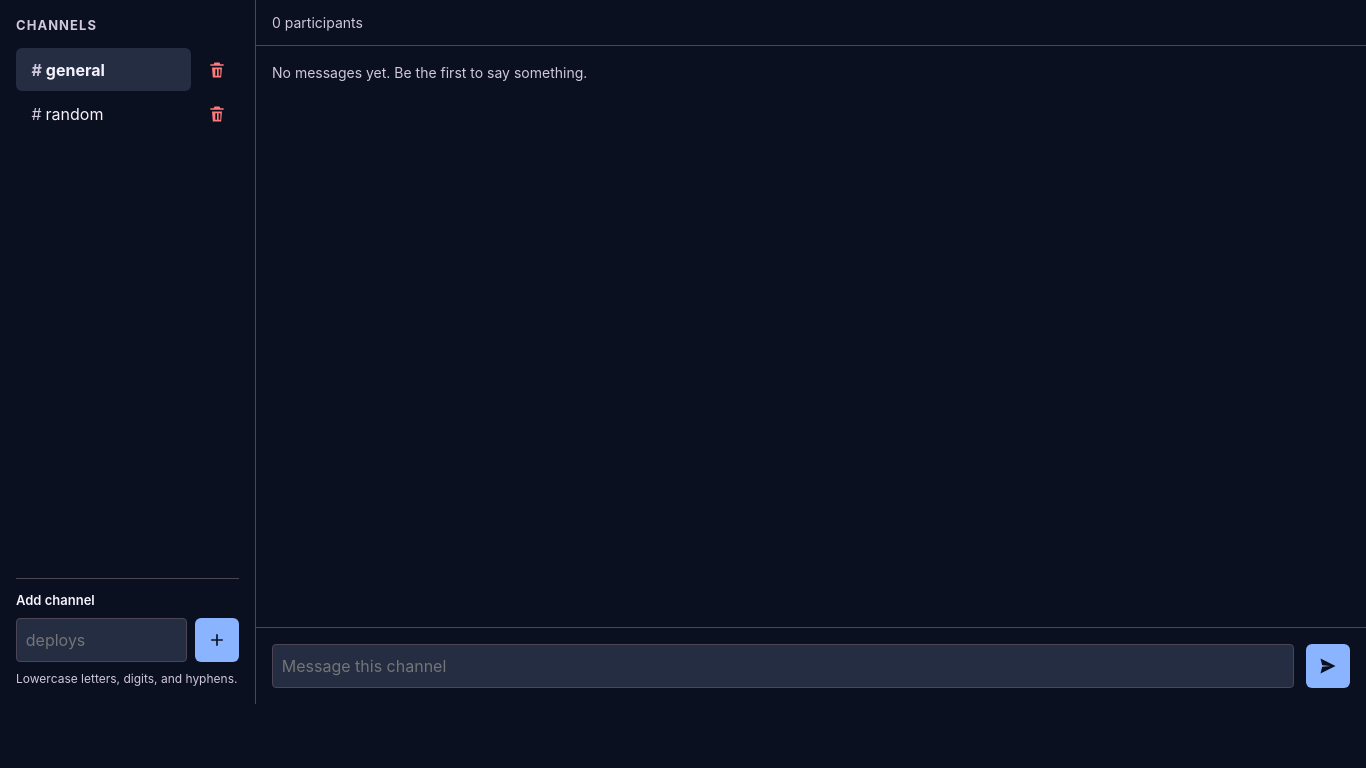
Test: ChatWorkspace › creating a channel › reports a rejected channel name without clearing the conversation
The width and height of the screenshot is (1366, 768).
expect the button "#general" is shown: met, box [16, 48, 191, 91]
Type "general" into the field named "New channel name" at (102,640), box [16, 618, 187, 662]
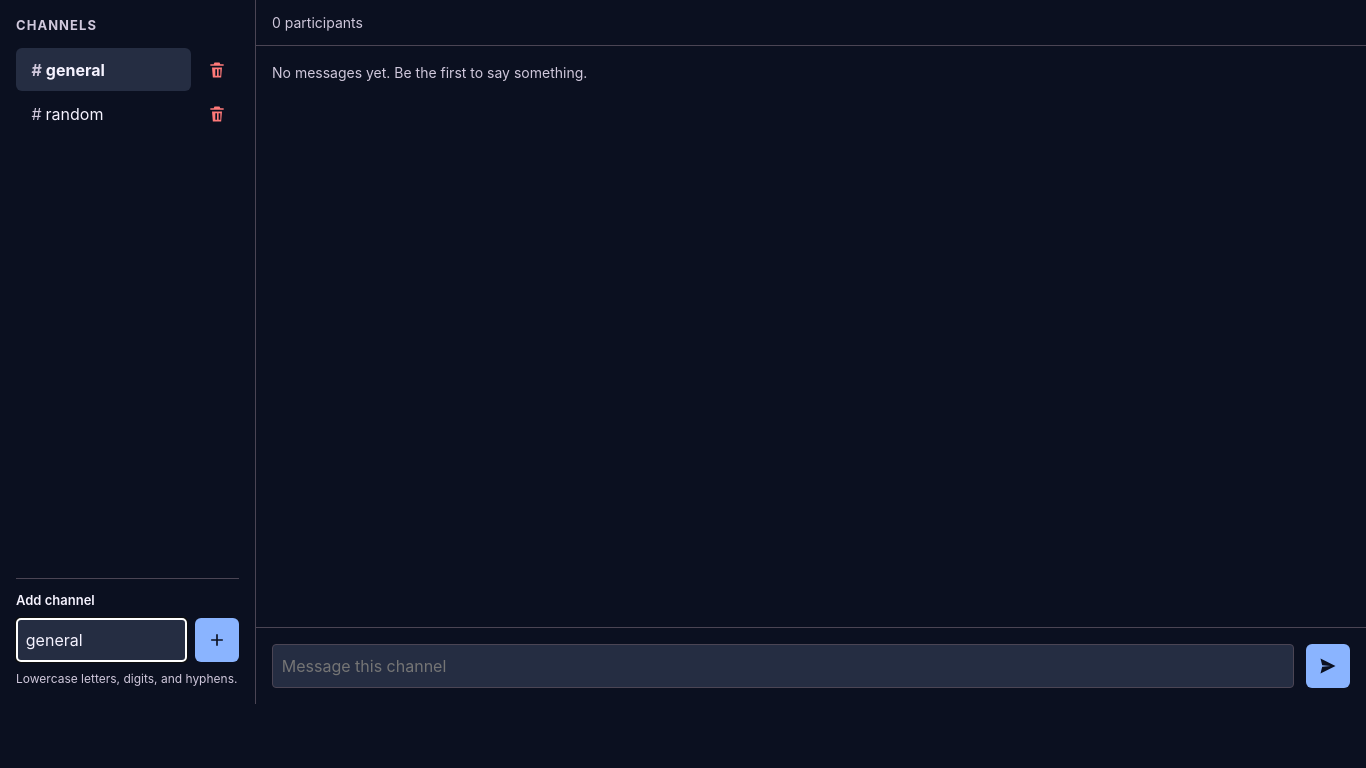
Click the button named "Add channel" at (217,640), box [195, 618, 239, 662]
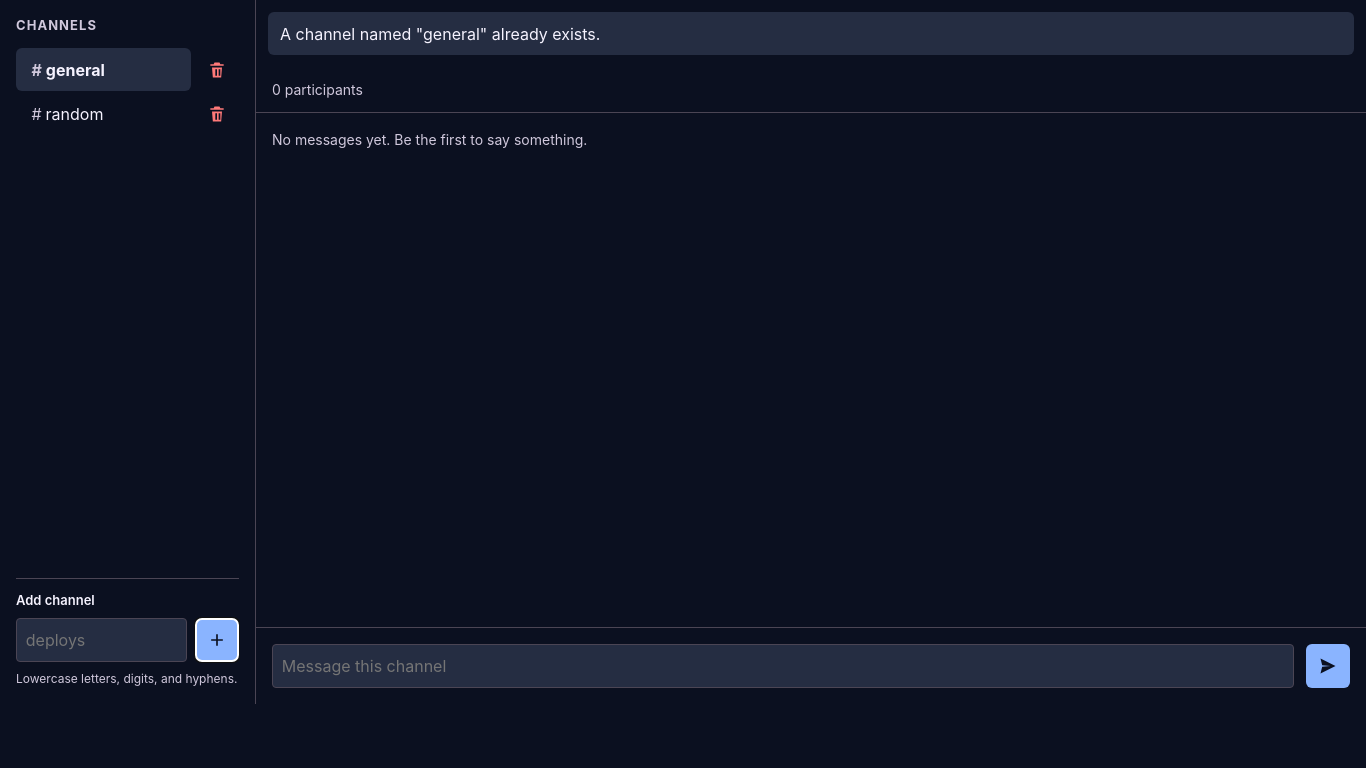
expect the message "A channel named \"general\" already exists." reads "A channel named \"general\" already exists.": met, box [280, 24, 600, 44]
